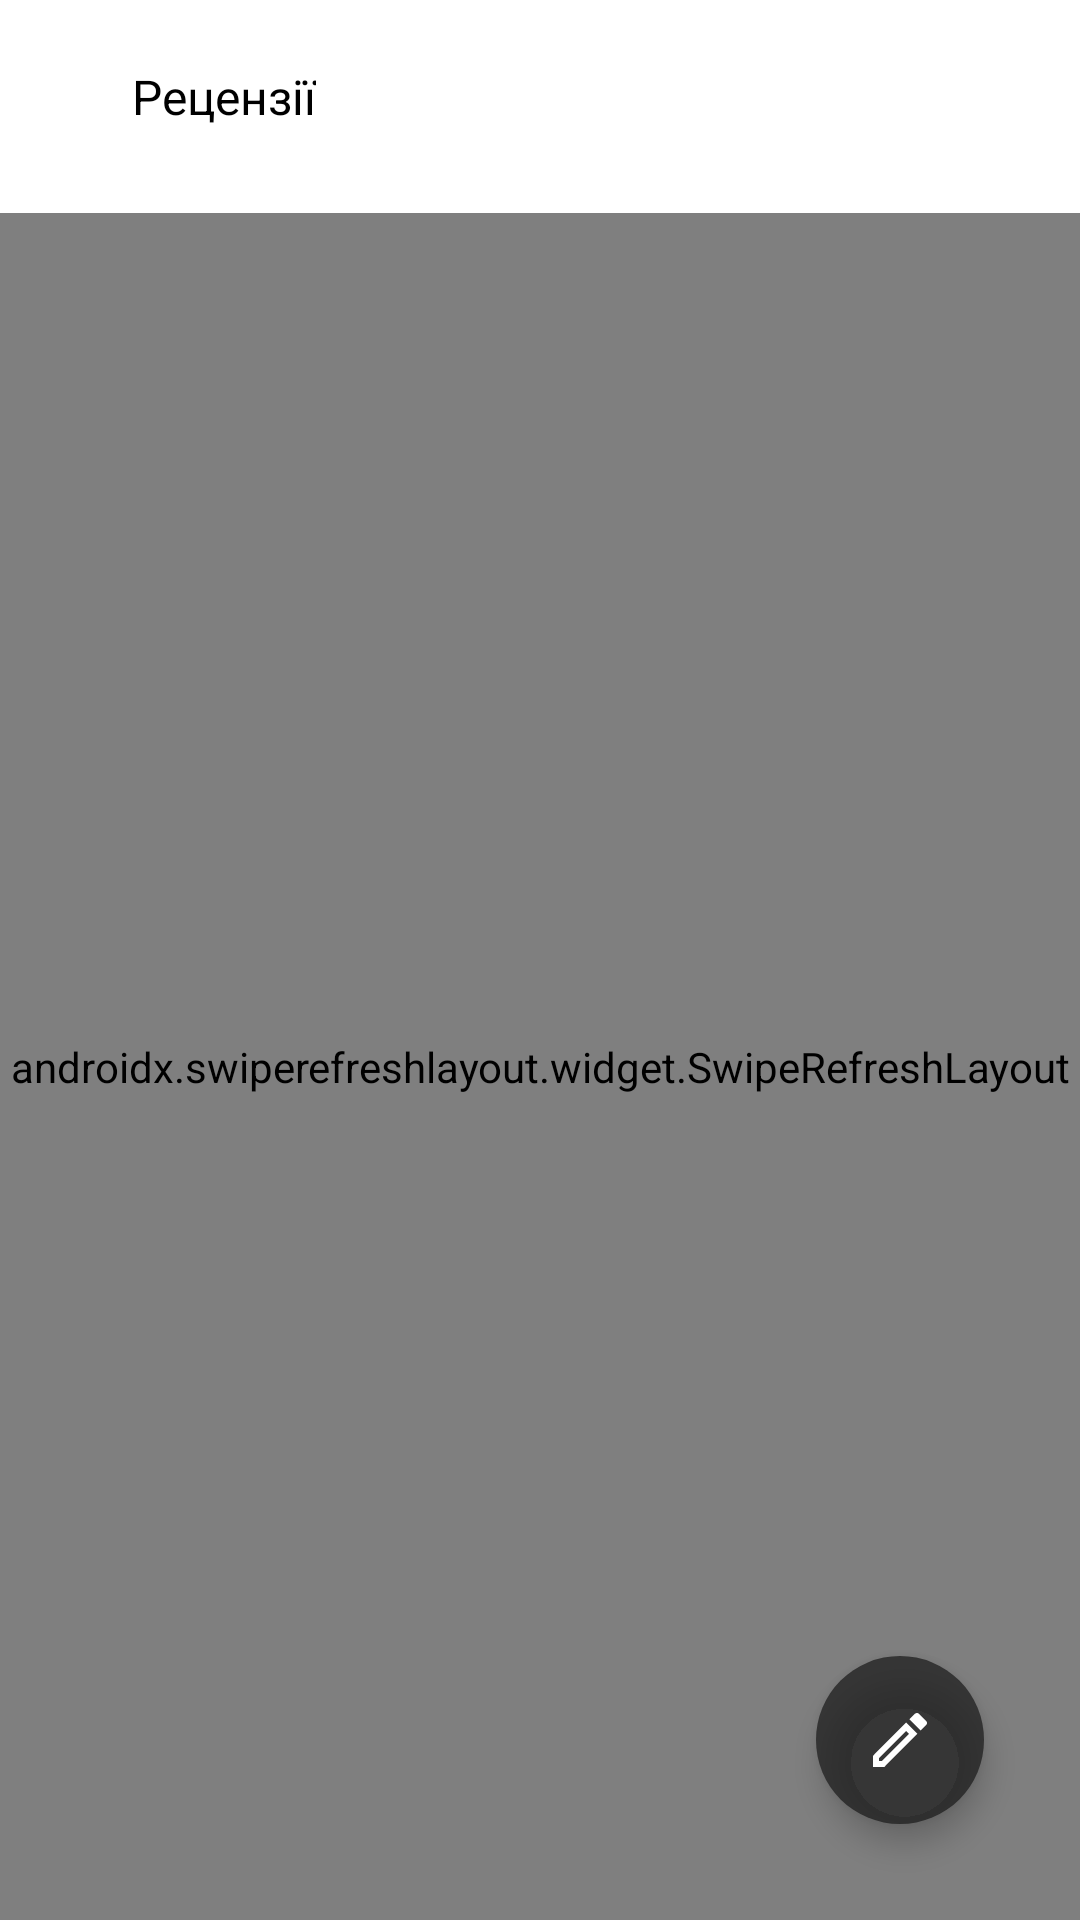

Named icons in this screenshot (1080 x 1920) and their bounding boxes, (x1, y1, x2, y2):
create: (816, 1656, 984, 1824)
